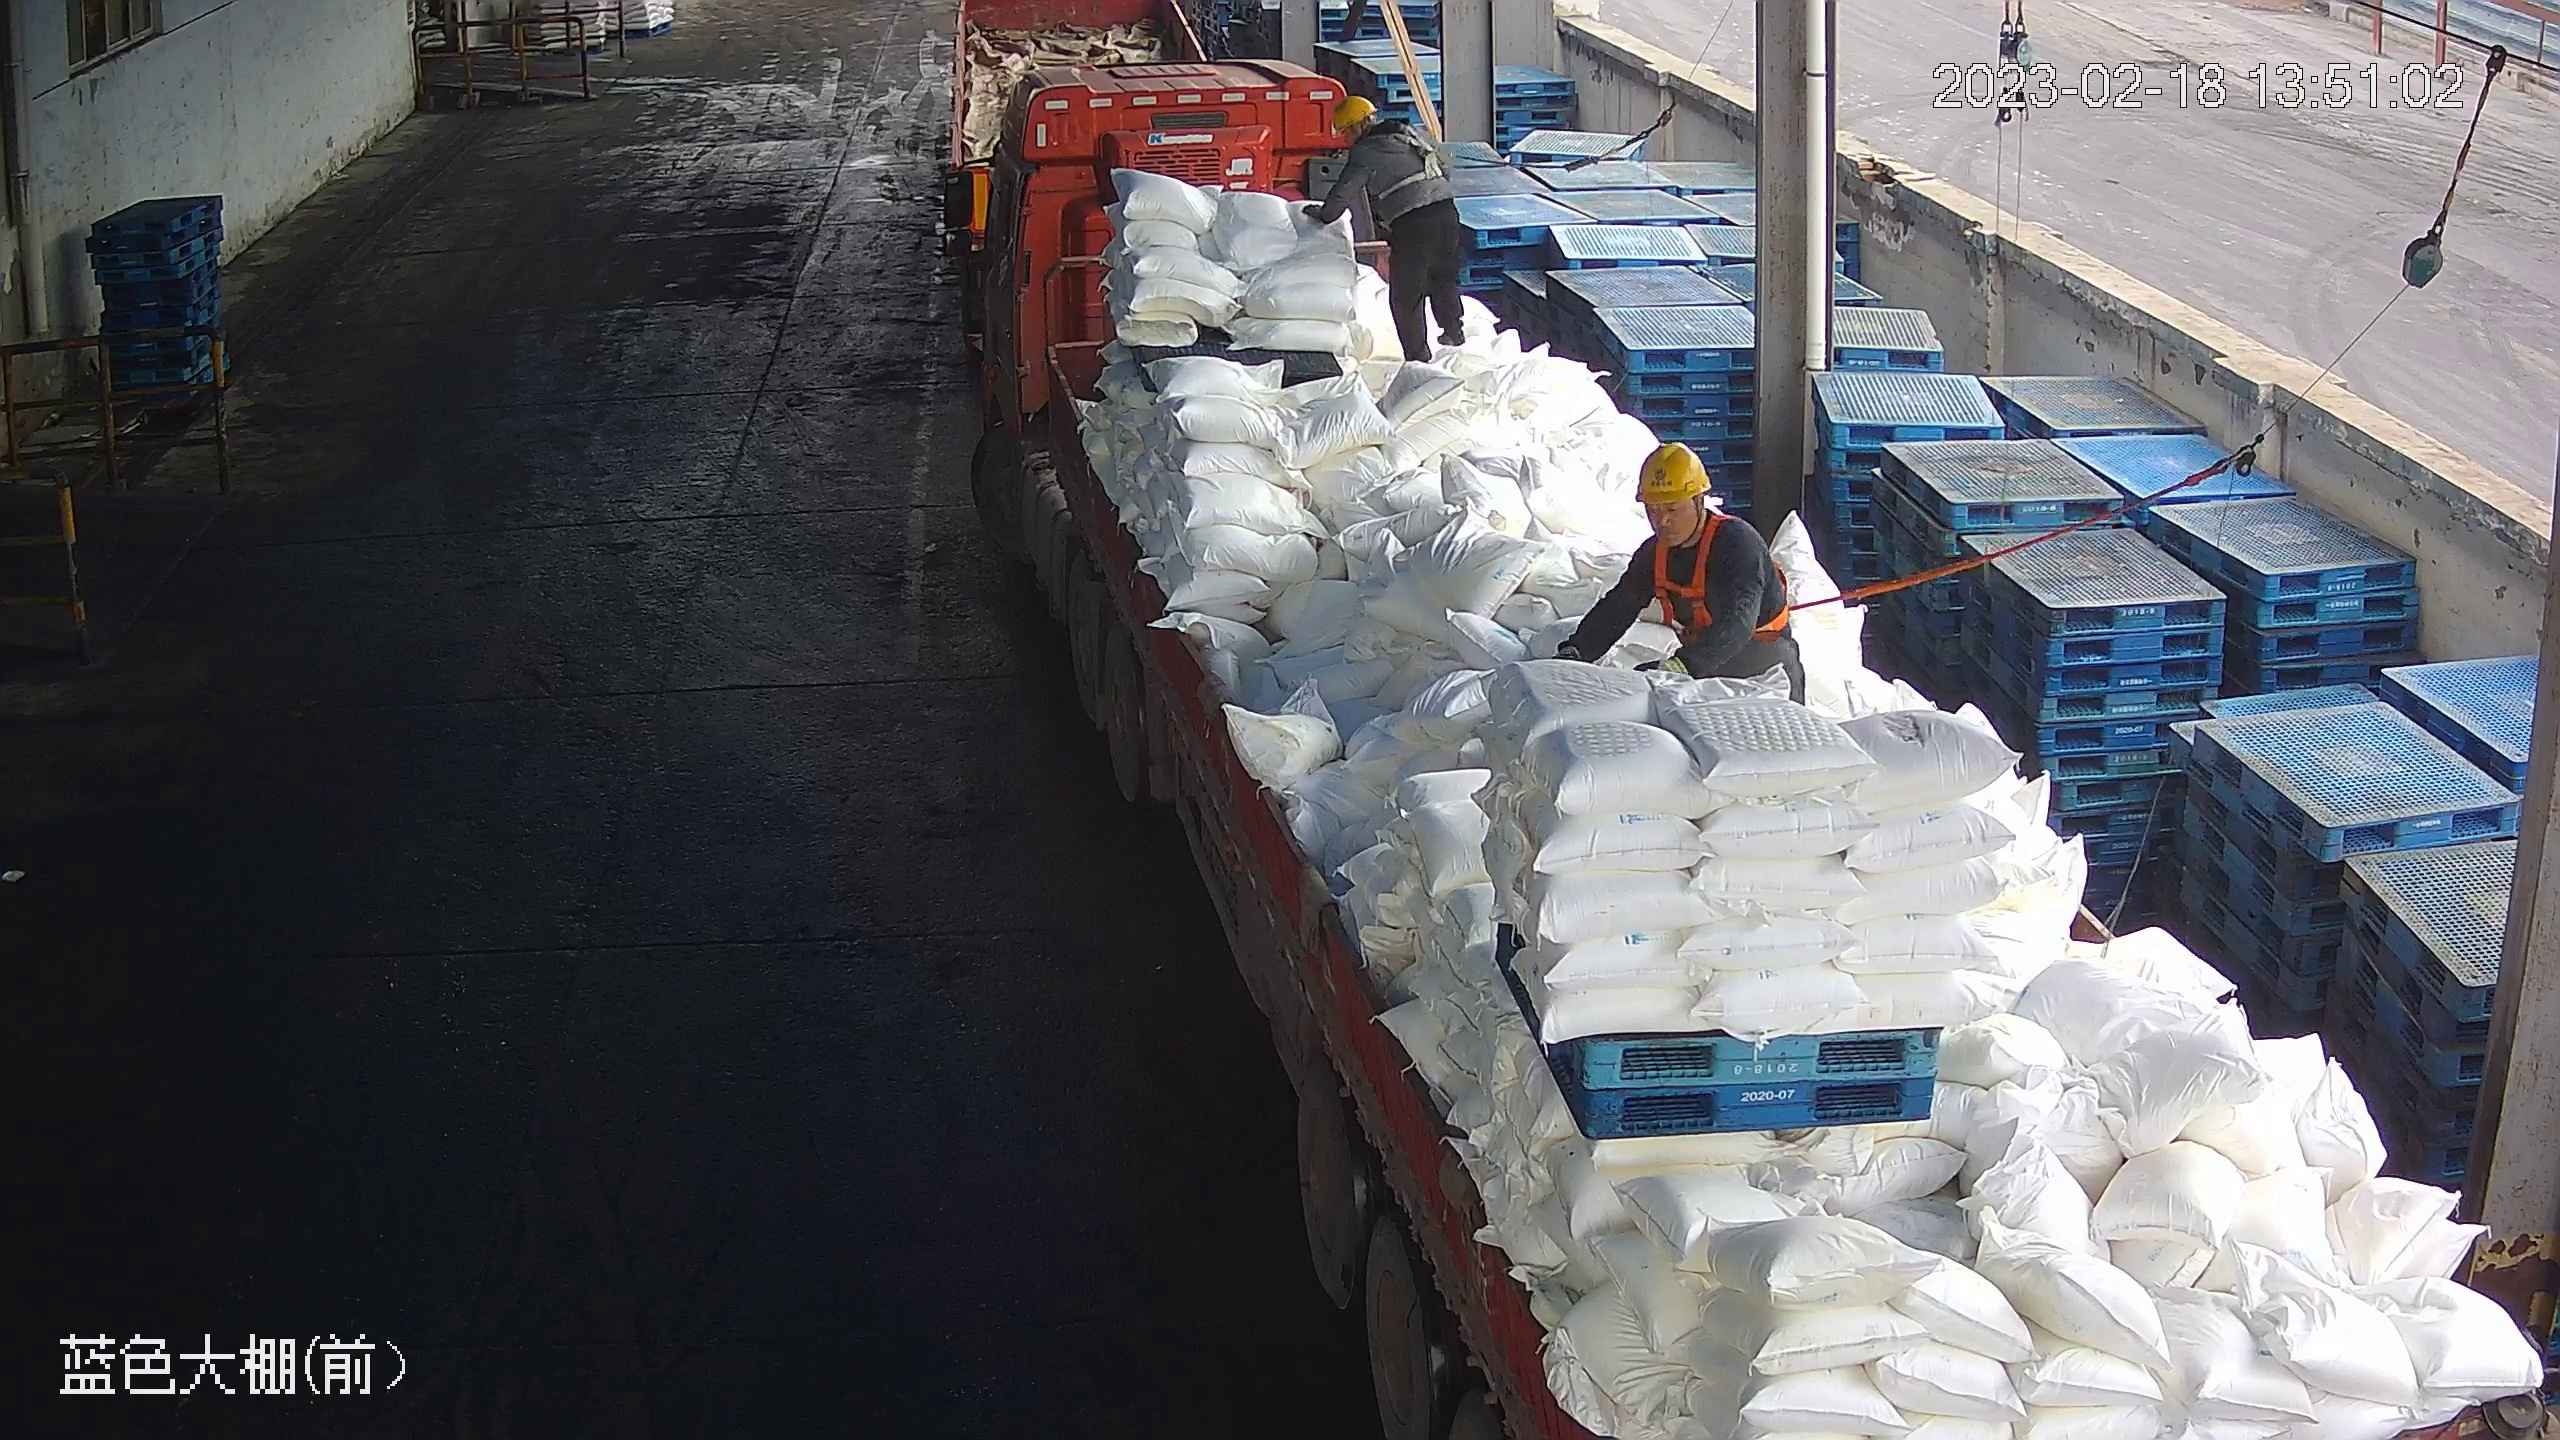belt: (1644, 518, 1813, 644), (1378, 128, 1457, 194)
head: (1615, 444, 1776, 615), (1319, 94, 1432, 184)
helmet: (1635, 442, 1710, 501), (1327, 96, 1381, 128)
people: (1307, 95, 1470, 370)
truck: (944, 61, 2560, 1440)
